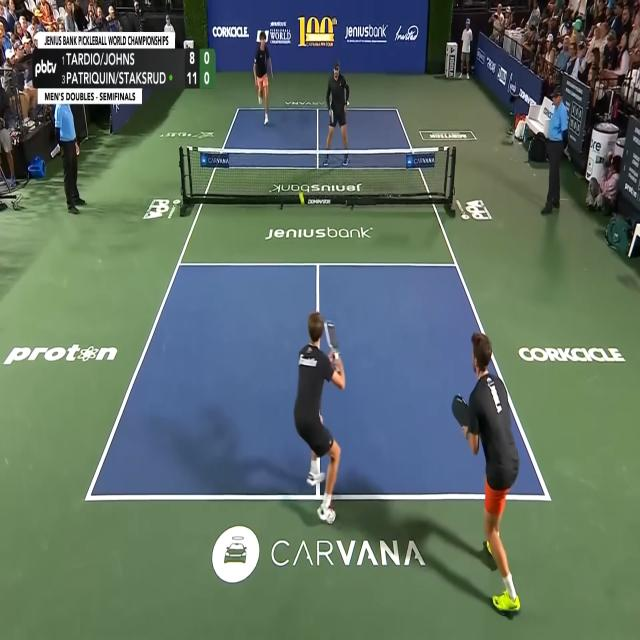ball: (298, 189, 305, 209)
